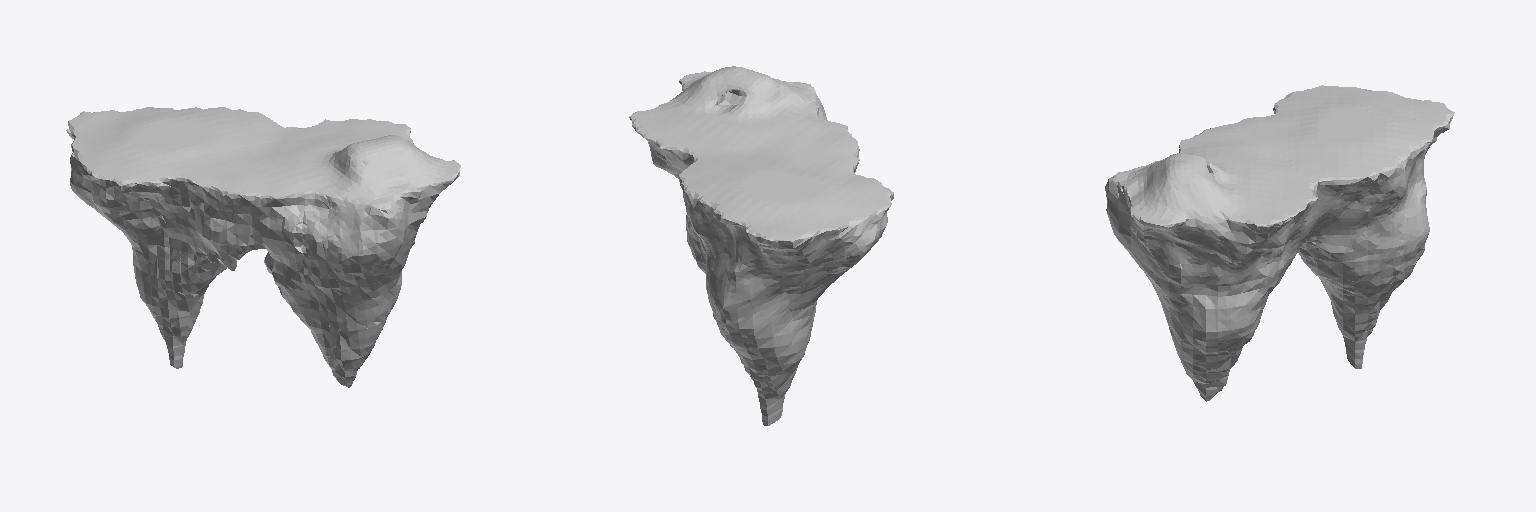
Rendered from IslandTunnelFixed.obj.
The picture shows the model from 3 angles: view 1: azimuth 30°, elevation 25°; view 2: azimuth 150°, elevation 25°; view 3: azimuth 270°, elevation 25°; orthographic projection.
Parts seen in each view (by area): view 1: Mesh; view 2: Mesh; view 3: Mesh.
Boxes of the visible parts, x1=… form: Mesh: x1=66, y1=107, x2=460, y2=387; Mesh: x1=629, y1=66, x2=893, y2=425; Mesh: x1=1105, y1=85, x2=1454, y2=401.
Size of the model in its own units: 26.73 by 23.11 by 28.09.